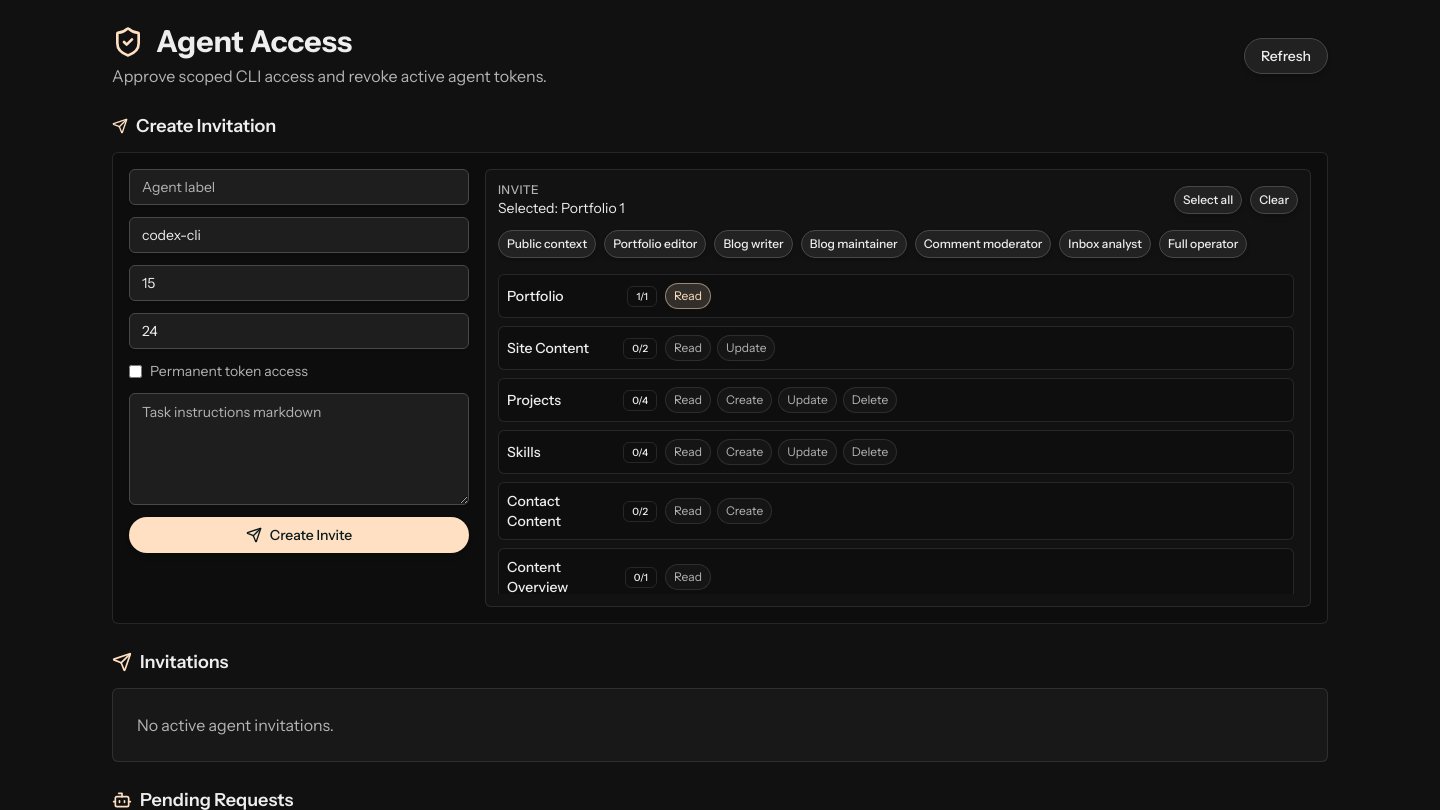
Test: admin agents page › applies scope templates and clears selected invite scopes
Expected: the text "Selected: Portfolio 1" is shown, left=498, top=198, right=625, bottom=218
Click the button "Blog writer" at (754, 244), box left=714, top=230, right=793, bottom=258
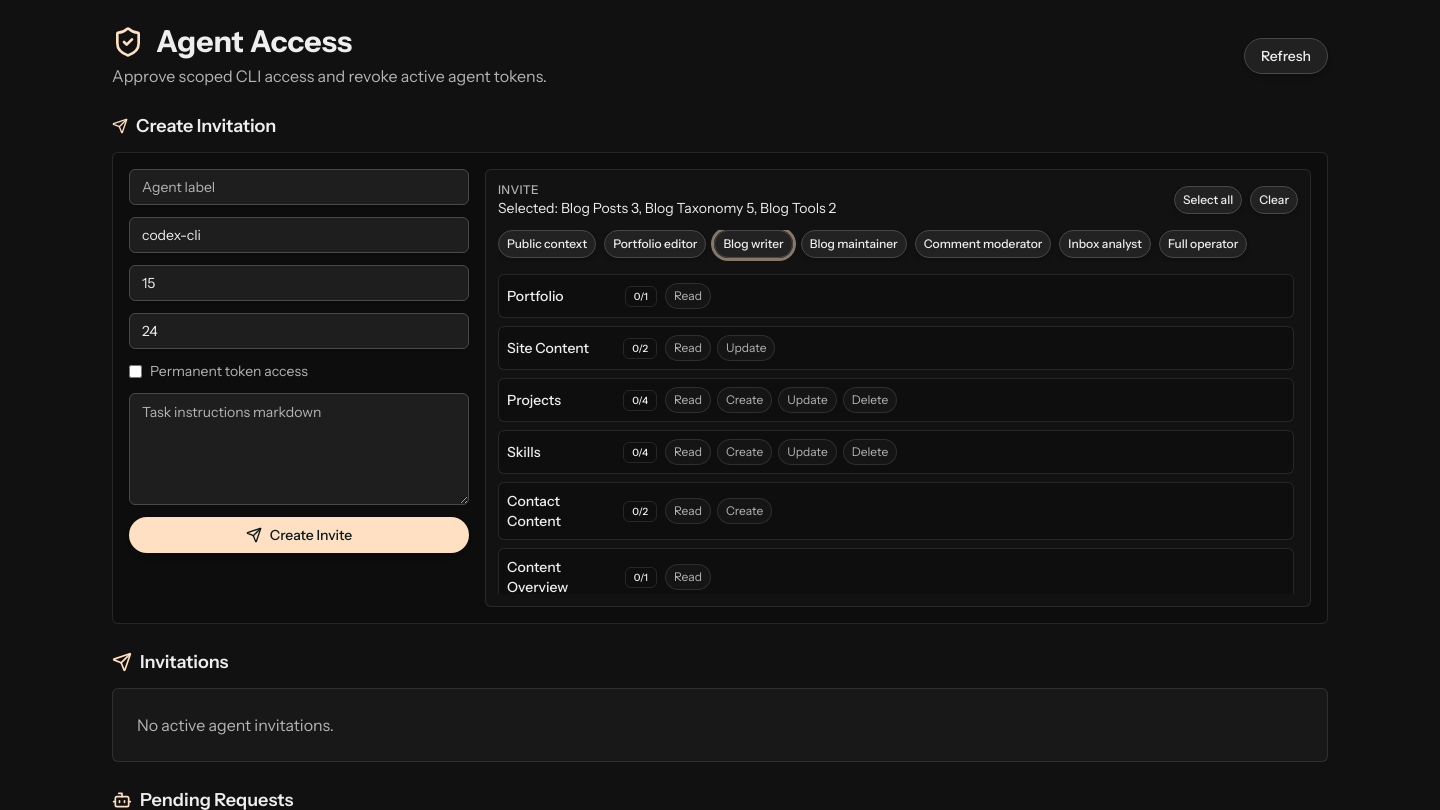
Now the text "Selected: Blog Posts 3, Blog Taxonomy 5, Blog Tools 2" is shown, box left=498, top=198, right=836, bottom=218
Click the button with aria-label "Clear invite scopes" at (1274, 200), box left=1250, top=186, right=1298, bottom=214
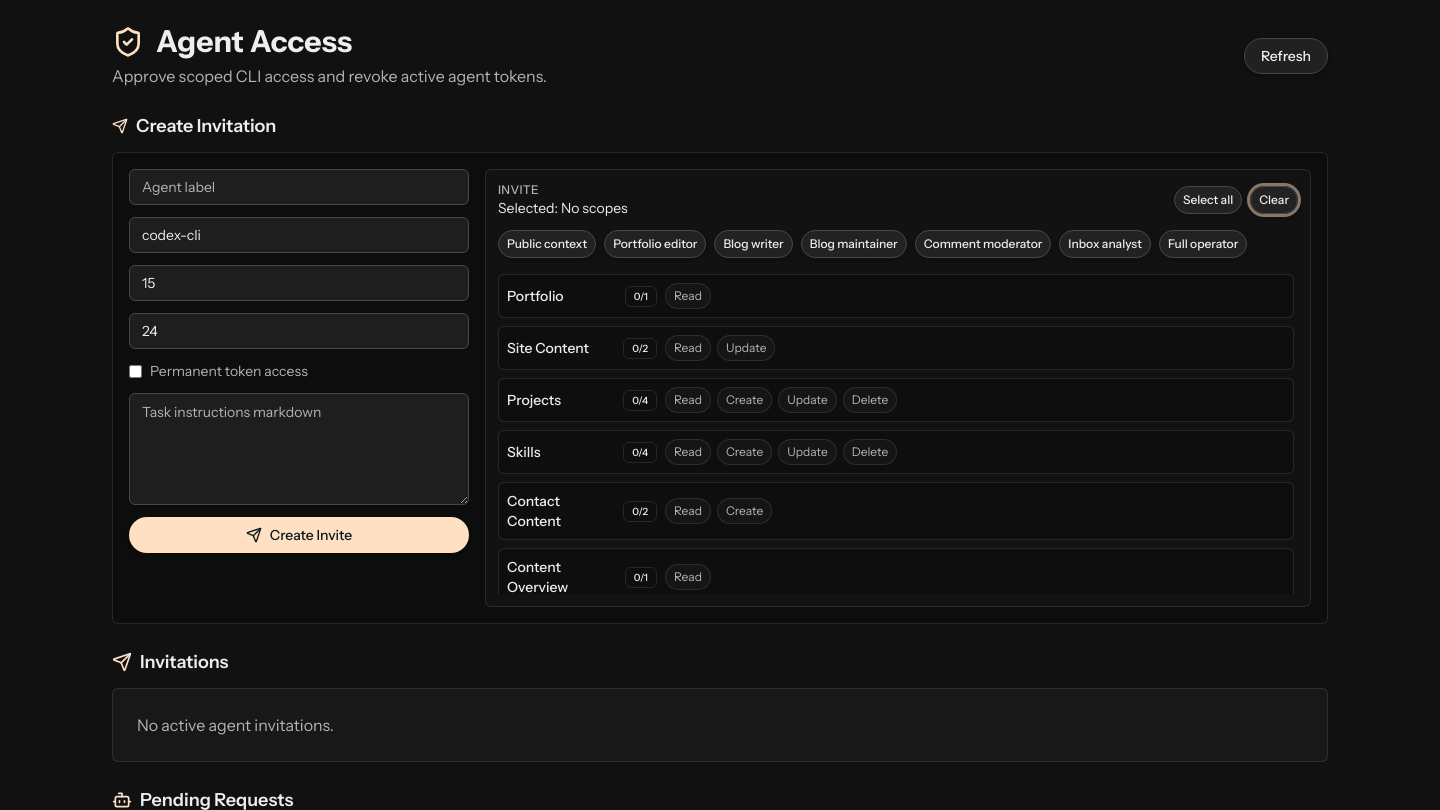
Now the text "Selected: No scopes" is shown, box left=498, top=198, right=628, bottom=218
